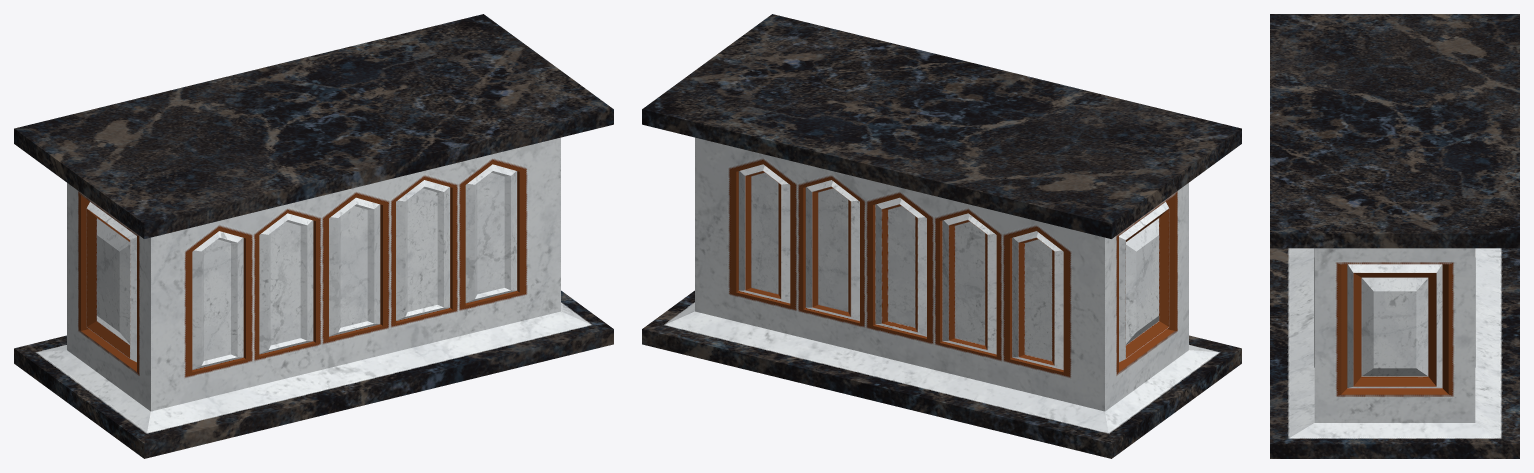
Rendered from marble_altar.glb.
3 views of the same model, side by side, from view 1: azimuth 30°, elevation 25°; view 2: azimuth 150°, elevation 25°; view 3: azimuth 270°, elevation 25° (orthographic). The views are drawn at different scales.
Visible parts, largest first — view 1: Altar; view 2: Altar; view 3: Altar.
Part boxes in pixels (box(x1,y1,x2,y2)): Altar: box(14, 14, 613, 458); Altar: box(642, 14, 1241, 458); Altar: box(1270, 14, 1519, 458).
Bounding box in the file's own units: 1.89 × 0.9024 × 0.9068.
Materials: 1 (1 with a texture image).
